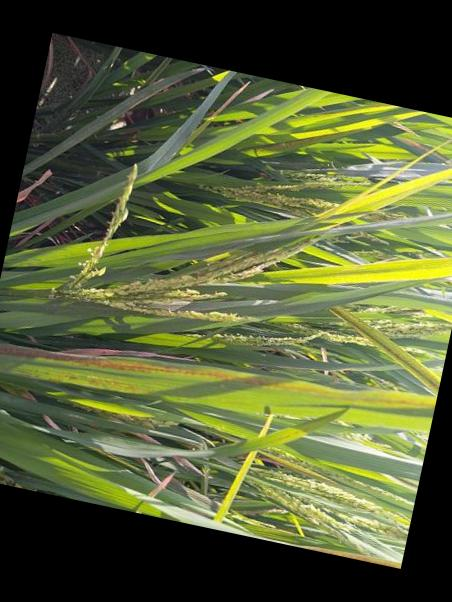Leaf Streak: (0, 344, 437, 408), (328, 305, 440, 397), (24, 364, 150, 395), (288, 544, 401, 569), (244, 132, 346, 157)
